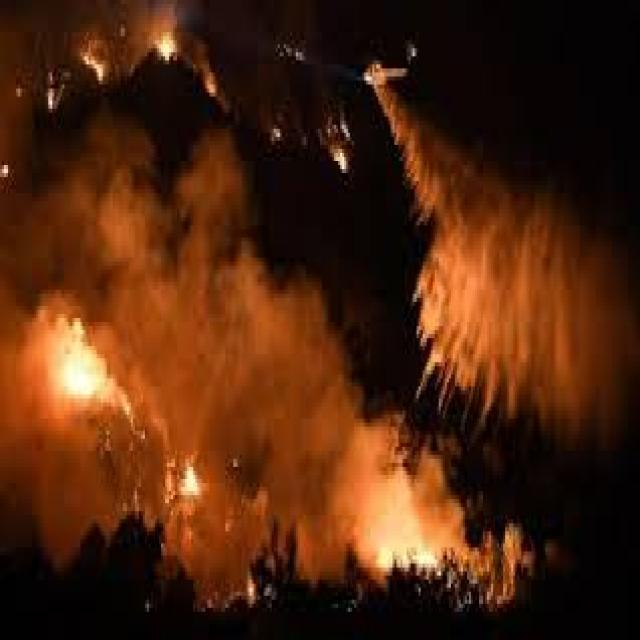Fire: (42, 334, 114, 416), (376, 522, 452, 588), (164, 458, 214, 512), (150, 22, 184, 72), (79, 48, 112, 96), (200, 66, 225, 109)
Smoke: (0, 137, 513, 612)
